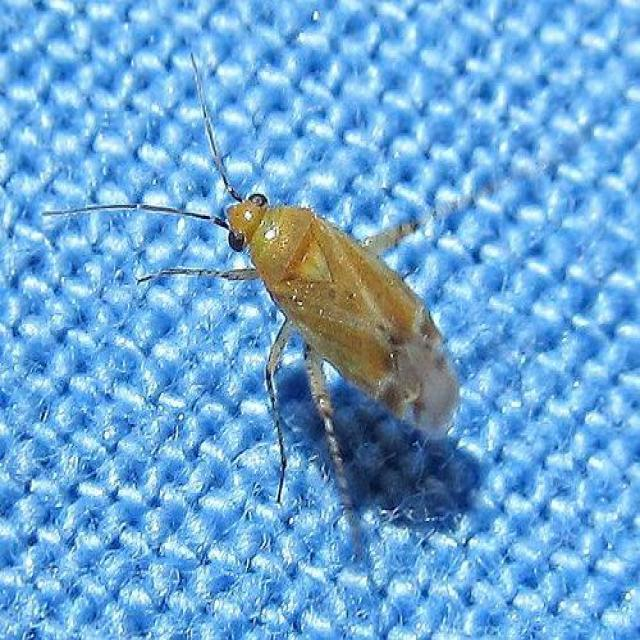Miridae-Adult-: (94, 36, 472, 511)
